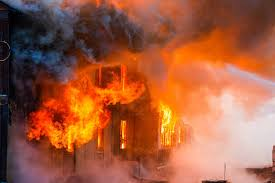smoke: (1, 1, 155, 60)
